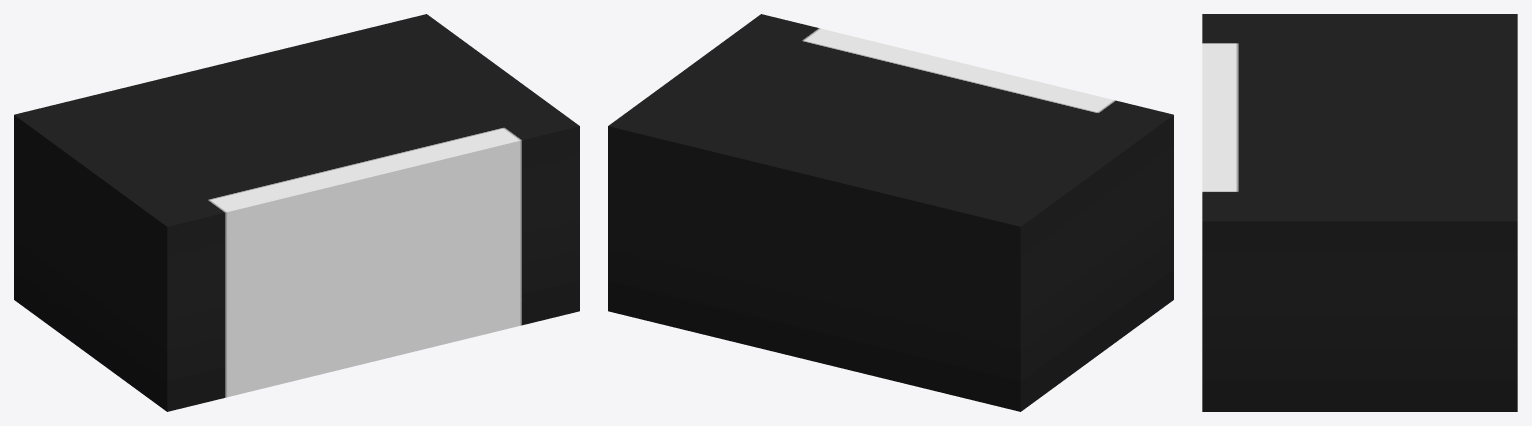
Rendered from Spine059.fbx.
3 renders of one model, left to right at view 1: azimuth 30°, elevation 25°; view 2: azimuth 150°, elevation 25°; view 3: azimuth 270°, elevation 25°, orthographic. The views are drawn at different scales.
Visible parts, largest first — view 1: Spine059; view 2: Spine059; view 3: Spine059.
Boxes of the visible parts, box(x1,y1,x2,y2) form: Spine059: box(14, 14, 579, 411); Spine059: box(608, 14, 1173, 411); Spine059: box(1202, 14, 1517, 411).
Size of the model in its own units: 14 by 6 by 9.
